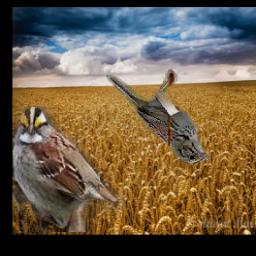Sparrow: (13, 106, 151, 232), (106, 70, 210, 165)
